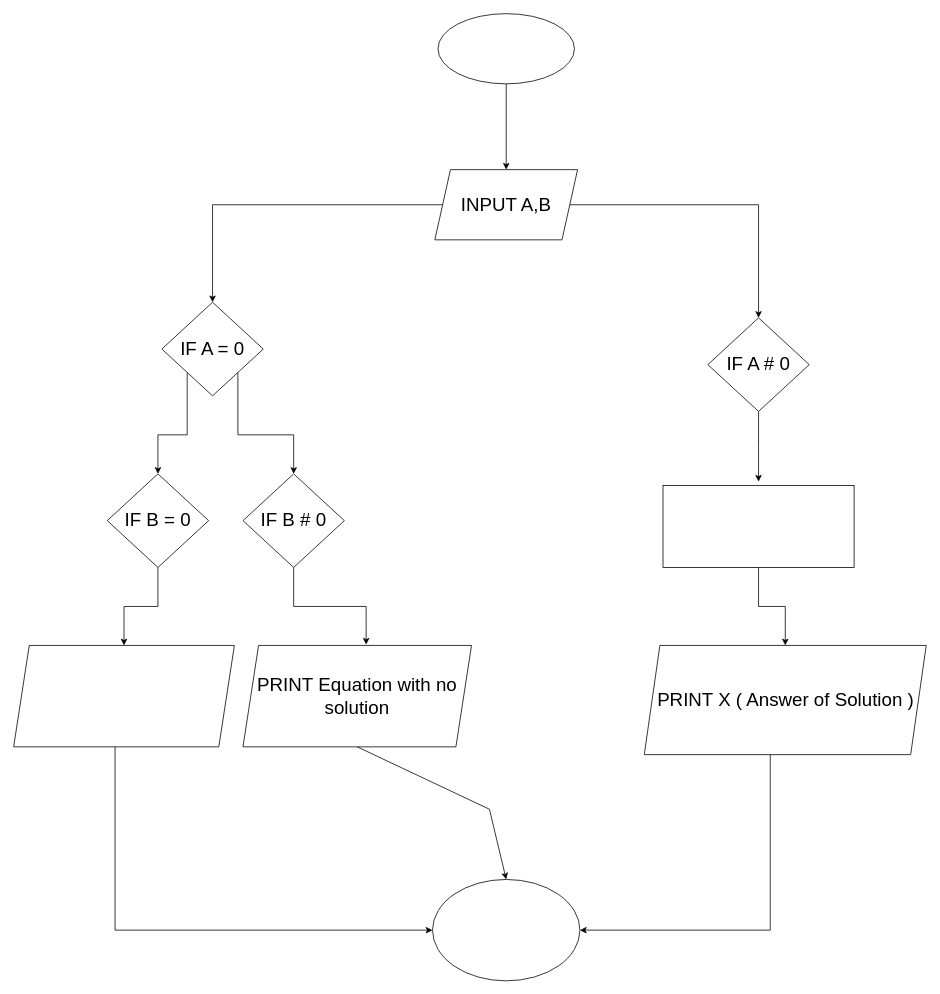
The diagram is 940 pixels wide and 994 high, and some of its shapes have lost their labels. Each missing label, with the centre of its shape:
CALCULATE the solution X = - B / A: point 758,526
END: point 506,930
PRINT Equation with infinite solutions: point 123,696
START: point 505,48
